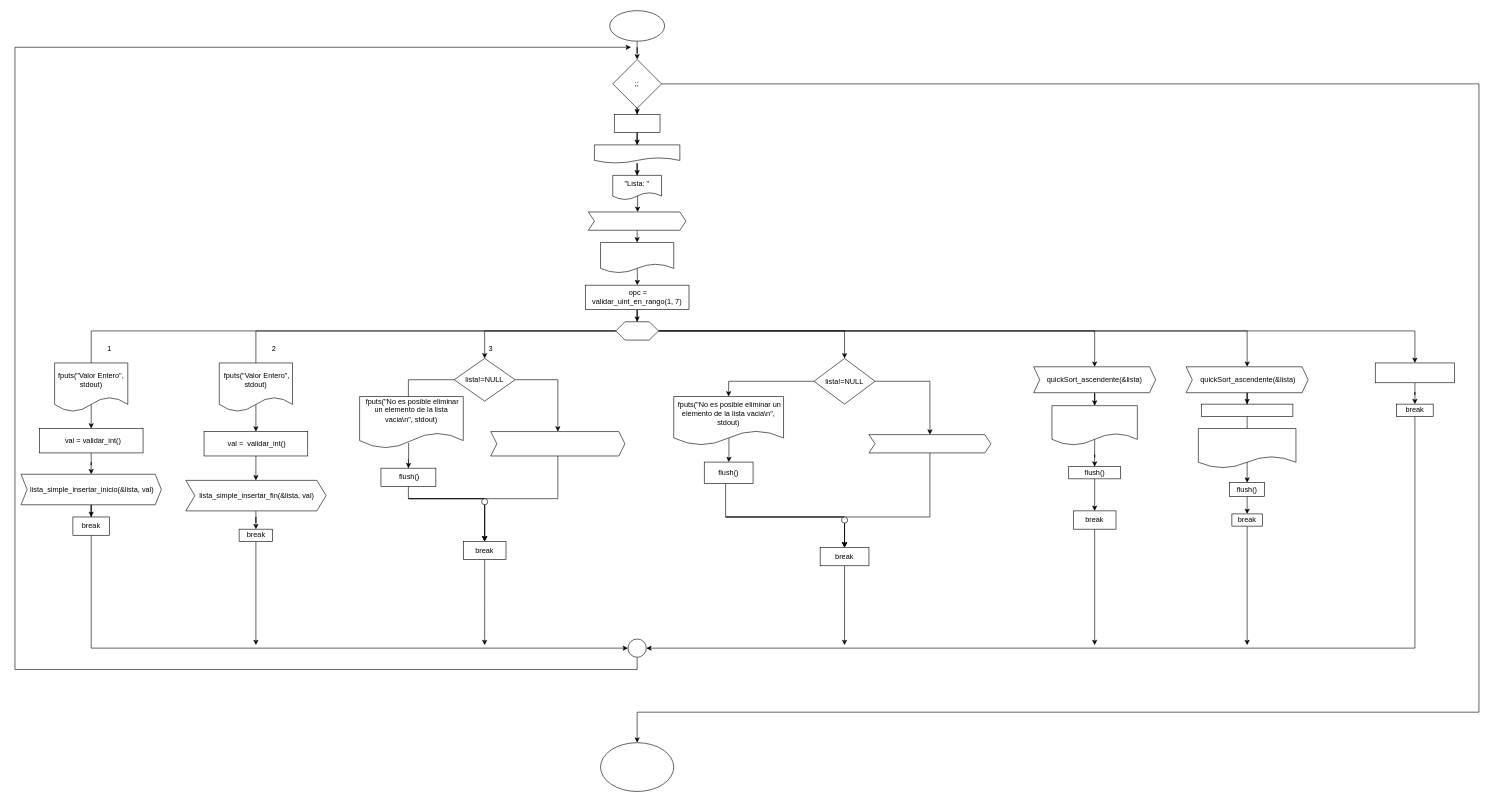
This 1495x802 diagram has some shape labels left out. The centre of each missing label's shape, as x and y in pixels:
clear(): [637,123]
exit(EXIT_SUCCESS): [1415,372]
Fin: [637,766]
fputs("\n\n", stdout) fputs(menu, stdout): [637,257]
fputs("Lista ordenada de forma ascendente", stdout): [1094,425]
fputs("Lista ordenada de forma descendente", stdout);: [1247,448]
fputs(titulo, stdout): [637,153]
Inicio: [637,25]
lista = invertir_lista(lista);: [1247,410]
lista_simple_eliminar_fin(&lista): [929,443]
lista_simple_eliminar_inicio(&lista): [557,443]
lista_simple_print(&lista, print_elemento): [637,220]
opc: [636,330]
